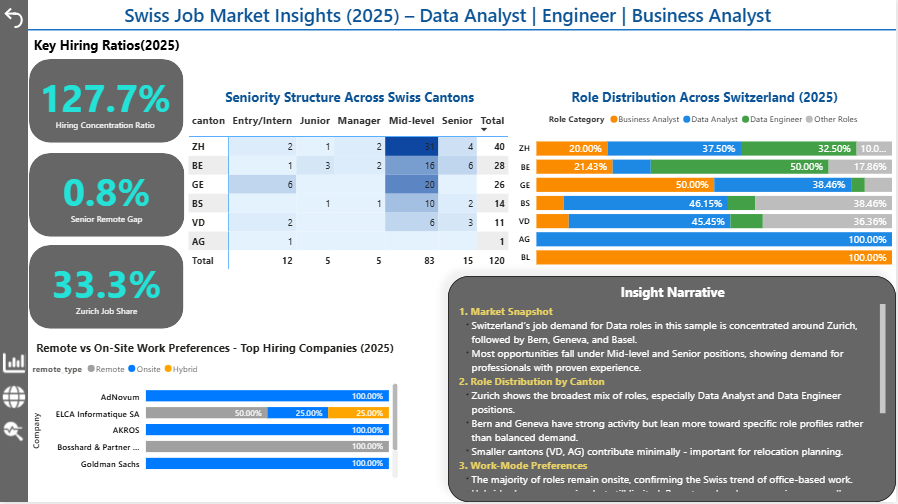

This screenshot's page, from the dashboard's own definition file:
{"tool":"powerbi","page":{"name":"Insights","canvas":[1280,720],"ordinal":2},"visuals":[{"type":"textbox","box":[42,48.6,222,38.1],"z":0},{"type":"shape","box":[0,0,40,720],"z":1000},{"type":"textbox","box":[136.3,0,1007.4,48.5],"z":2000},{"type":"shape","box":[39.4,40.7,1240.3,7.9],"z":3000},{"type":"hundredPercentStackedBarChart","title":"Role Distribution Across Switzerland (2025)","fields":{"Series":["jobs.Role Category"],"Category":["jobs.canton"],"Y":["Measures table.Total Jobs"]},"box":[734.5,128.8,545.3,268],"z":4000},{"type":"hundredPercentStackedBarChart","title":"Remote vs On-Site Work Preferences - Top Hiring Companies (2025)","fields":{"Category":["jobs.company_clean"],"Y":["Measures table.Total Jobs"],"Series":["jobs.remote_type"]},"box":[42,488.8,532.1,202.3],"z":5000},{"type":"pivotTable","title":"Seniority Structure Across Swiss Cantons","fields":{"Rows":["sj_cities.canton"],"Columns":["jobs.seniority_level"],"Values":["Measures table.Total Jobs"]},"box":[264.1,128.8,470.4,268],"z":6000},{"type":"shape","box":[42,86.7,220.7,119.6],"z":7000},{"type":"card","fields":{"Values":["Measures table.Hiring Concentration Ratio"]},"box":[39.4,86.7,220.7,119.6],"z":8000},{"type":"shape","box":[42,220.7,222,119.6],"z":9000},{"type":"textbox","title":"Insight Narrative","box":[639.9,396.8,639.9,323.2],"z":10000},{"type":"card","fields":{"Values":["Measures table.Senior Remote Gap"]},"box":[42,220.7,222,119.6],"z":11000},{"type":"actionButton","box":[0,502,42,40],"z":12000},{"type":"shape","box":[42,353.4,220.7,119.6],"z":13000},{"type":"actionButton","box":[0,501.9,39.4,40.7],"z":14000},{"type":"card","fields":{"Values":["Measures table.Zurich Job Share"]},"box":[42,353.4,222,119.6],"z":15000},{"type":"actionButton","box":[0,550,40,40],"z":16000},{"type":"actionButton","box":[0,549.4,41.4,40],"z":17000},{"type":"actionButton","box":[0,600,39,39],"z":18000},{"type":"actionButton","box":[0,600,39,39],"z":19000},{"type":"actionButton","box":[0,9.2,42,39.4],"z":20000}]}

Visuals, with their boxes on the page's 1280x720 design canvas (x1, y1, x2, y2). These are canvas units, not pixel positions in the 898x504 screenshot, which may show the page scaled, cropped or inside an application window:
textbox: bbox=(42, 49, 264, 87)
shape: bbox=(0, 0, 40, 720)
textbox: bbox=(136, 0, 1144, 48)
shape: bbox=(39, 41, 1280, 49)
"Role Distribution Across Switzerland (2025)" hundredPercentStackedBarChart: bbox=(734, 129, 1280, 397)
"Remote vs On-Site Work Preferences - Top Hiring Companies (2025)" hundredPercentStackedBarChart: bbox=(42, 489, 574, 691)
"Seniority Structure Across Swiss Cantons" pivotTable: bbox=(264, 129, 734, 397)
shape: bbox=(42, 87, 263, 206)
card - Measures table.Hiring Concentration Ratio: bbox=(39, 87, 260, 206)
shape: bbox=(42, 221, 264, 340)
"Insight Narrative" textbox: bbox=(640, 397, 1280, 720)
card - Measures table.Senior Remote Gap: bbox=(42, 221, 264, 340)
actionButton: bbox=(0, 502, 42, 542)
shape: bbox=(42, 353, 263, 473)
actionButton: bbox=(0, 502, 39, 543)
card - Measures table.Zurich Job Share: bbox=(42, 353, 264, 473)
actionButton: bbox=(0, 550, 40, 590)
actionButton: bbox=(0, 549, 41, 589)
actionButton: bbox=(0, 600, 39, 639)
actionButton: bbox=(0, 600, 39, 639)
actionButton: bbox=(0, 9, 42, 49)
